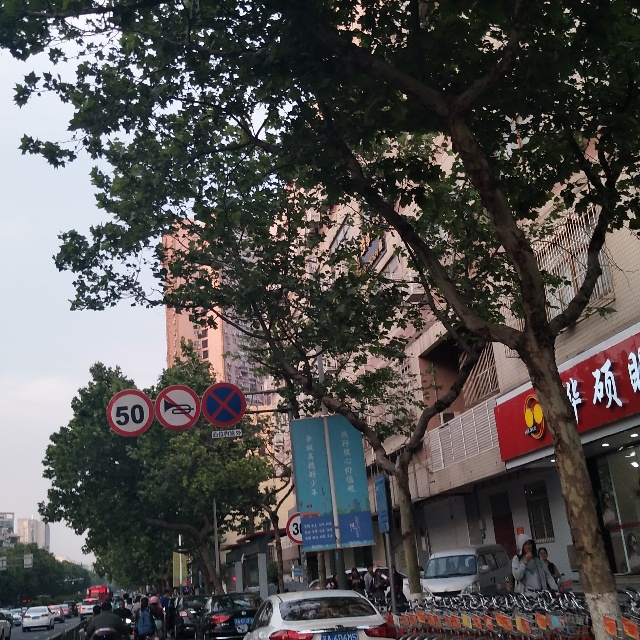nohonk: (155, 385, 201, 430)
stop: (202, 382, 246, 427)
